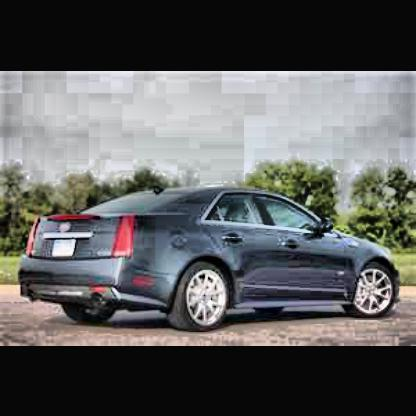Cadillac CTS-V Sedan 2012: (22, 189, 401, 334)
